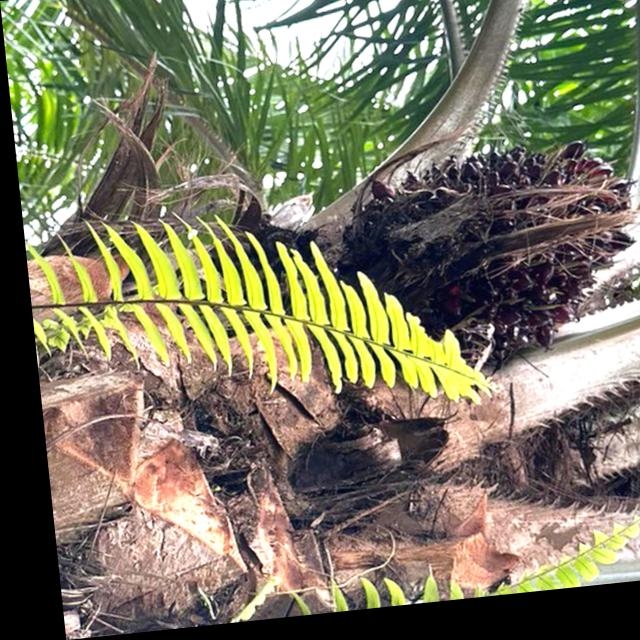ripe: (311, 124, 640, 399)
